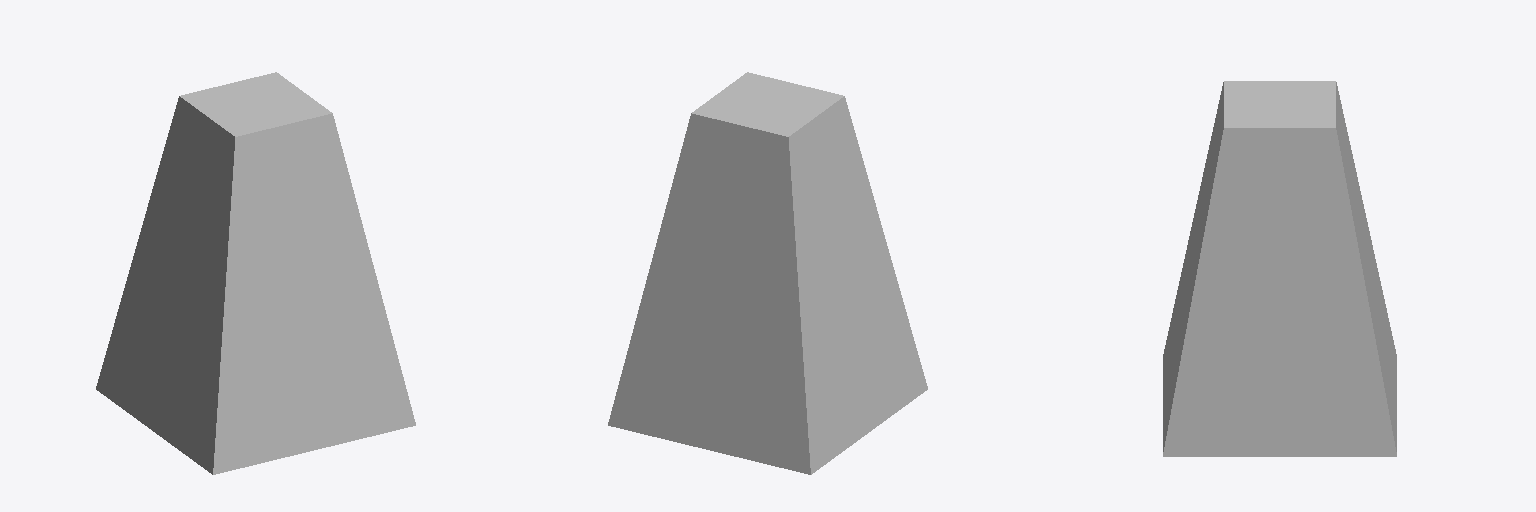
Rendered from Car_Antiai_2.obj.
The picture shows the model from 3 angles: view 1: azimuth 30°, elevation 25°; view 2: azimuth 150°, elevation 25°; view 3: azimuth 270°, elevation 25°; orthographic projection.
Visible parts, largest first — view 1: Car_Antiai_2; view 2: Car_Antiai_2; view 3: Car_Antiai_2.
Boxes of the visible parts, x1=… form: Car_Antiai_2: x1=96, y1=72, x2=415, y2=474; Car_Antiai_2: x1=608, y1=72, x2=927, y2=474; Car_Antiai_2: x1=1163, y1=81, x2=1396, y2=456.
Bounding box in the file's own units: 7.16 × 10.19 × 7.16.